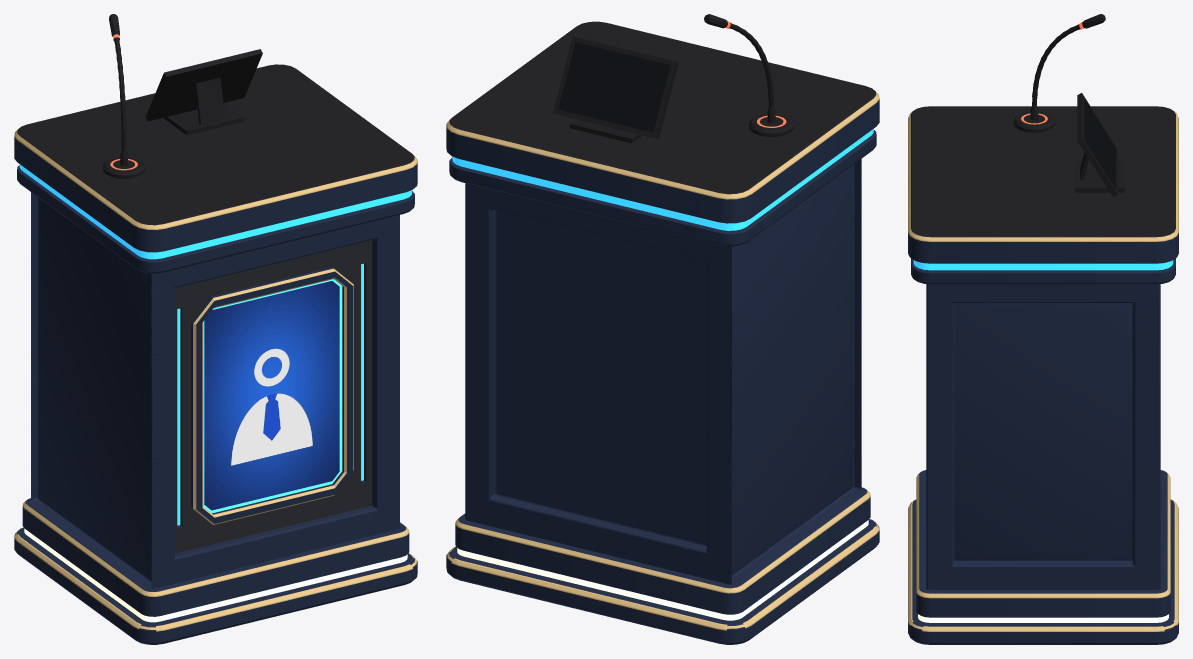
Rendered from contestant_podium.glb.
3 renders of one model, left to right at view 1: azimuth 30°, elevation 25°; view 2: azimuth 150°, elevation 25°; view 3: azimuth 270°, elevation 25°, orthographic. The views are drawn at different scales.
Parts seen in each view (by area): view 1: ContestantPodium_Body, ContestantPodium_Top, ContestantPodium_FrontScreen, ContestantPodium_FrontPanel, ContestantPodium_Base, ContestantPodium_Tablet, ContestantPodium_LED_Top, ContestantPodium_LED_Base, ContestantPodium_Microphone, ContestantPodium_LED_Vertical; view 2: ContestantPodium_Body, ContestantPodium_Top, ContestantPodium_Base, ContestantPodium_Tablet, ContestantPodium_LED_Top, ContestantPodium_LED_Base, ContestantPodium_Microphone; view 3: ContestantPodium_Body, ContestantPodium_Top, ContestantPodium_Base, ContestantPodium_Tablet, ContestantPodium_LED_Top, ContestantPodium_Microphone, ContestantPodium_LED_Base.
Boxes of the visible parts, left/top/right/bottom form: ContestantPodium_Body: left=31, top=192, right=399, bottom=589; ContestantPodium_Top: left=14, top=64, right=417, bottom=273; ContestantPodium_FrontScreen: left=203, top=279, right=342, bottom=513; ContestantPodium_FrontPanel: left=175, top=240, right=372, bottom=553; ContestantPodium_Base: left=14, top=498, right=417, bottom=644; ContestantPodium_Tablet: left=145, top=49, right=262, bottom=135; ContestantPodium_LED_Top: left=19, top=164, right=412, bottom=259; ContestantPodium_LED_Base: left=24, top=528, right=407, bottom=622; ContestantPodium_Microphone: left=103, top=14, right=145, bottom=178; ContestantPodium_LED_Vertical: left=177, top=263, right=363, bottom=525; ContestantPodium_Body: left=465, top=159, right=861, bottom=584; ContestantPodium_Top: left=446, top=21, right=879, bottom=246; ContestantPodium_Base: left=446, top=487, right=879, bottom=644; ContestantPodium_Tablet: left=553, top=36, right=678, bottom=143; ContestantPodium_LED_Top: left=452, top=129, right=873, bottom=230; ContestantPodium_LED_Base: left=457, top=520, right=868, bottom=620; ContestantPodium_Microphone: left=704, top=14, right=794, bottom=137; ContestantPodium_Body: left=926, top=284, right=1160, bottom=589; ContestantPodium_Top: left=908, top=106, right=1178, bottom=284; ContestantPodium_Base: left=908, top=470, right=1178, bottom=644; ContestantPodium_Tablet: left=1075, top=93, right=1124, bottom=197; ContestantPodium_LED_Top: left=913, top=260, right=1173, bottom=270; ContestantPodium_Microphone: left=1013, top=14, right=1105, bottom=132; ContestantPodium_LED_Base: left=918, top=614, right=1168, bottom=622.
Size of the model in its own units: 0.7 by 1.3 by 0.6.
12 materials, 1 textured.
